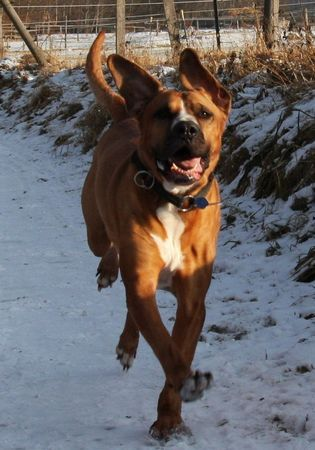tosa_inu: (79, 29, 231, 447)
